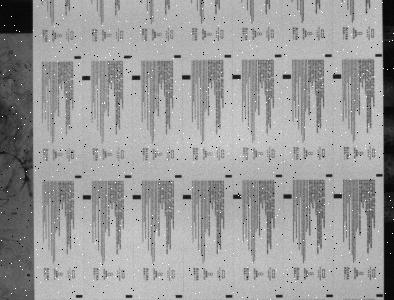qblock: (182, 75, 191, 80), (333, 193, 342, 198), (332, 74, 341, 79), (183, 194, 191, 199), (132, 75, 140, 80), (233, 194, 241, 199), (283, 74, 291, 79), (132, 195, 141, 199), (232, 75, 241, 79), (283, 194, 292, 198), (82, 76, 90, 80), (83, 195, 91, 199)
smallqblock: (224, 54, 232, 58), (225, 174, 232, 178), (225, 295, 233, 298), (125, 295, 133, 298), (275, 174, 283, 177), (325, 174, 333, 177), (276, 294, 283, 297), (74, 56, 81, 59), (175, 295, 182, 298), (76, 295, 83, 298), (326, 294, 333, 297), (124, 55, 131, 58), (174, 55, 181, 58), (275, 54, 282, 57), (75, 175, 82, 178), (325, 54, 332, 57), (125, 175, 132, 178), (375, 54, 382, 57), (376, 294, 383, 297), (175, 175, 182, 178), (376, 174, 383, 177)
